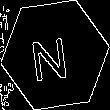N_N: (33, 27, 77, 83)
